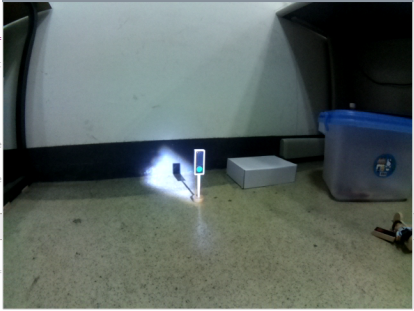Green: (191, 146, 208, 176)
